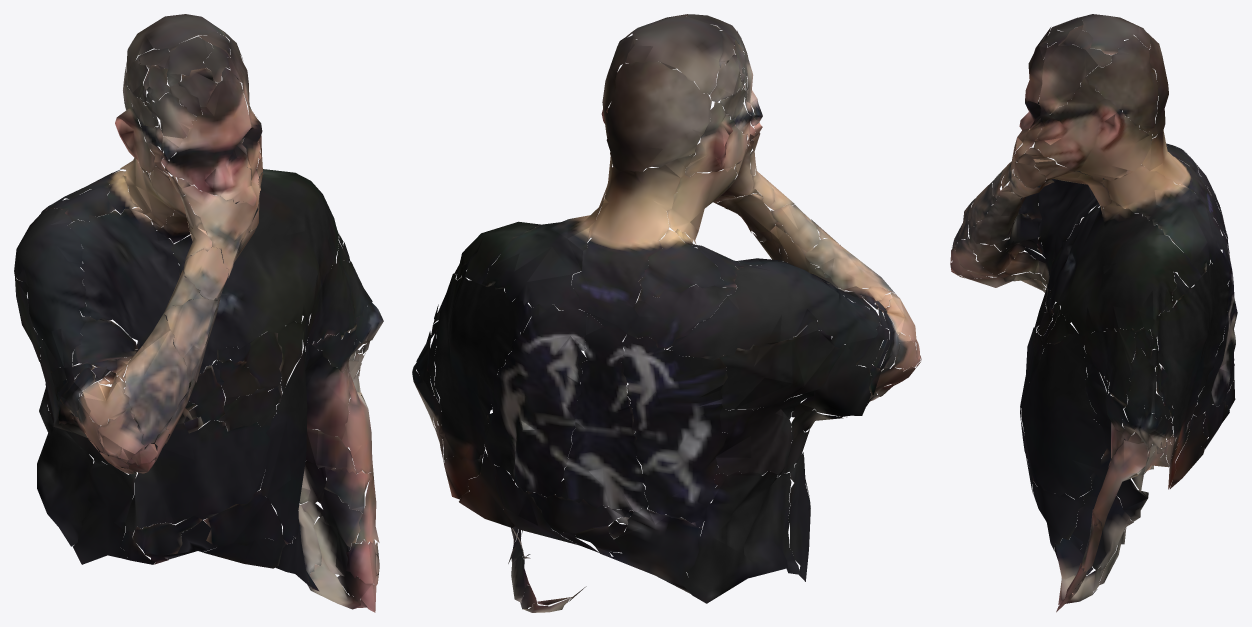
The picture shows the model from 3 angles, left to right: view 1: azimuth 30°, elevation 25°; view 2: azimuth 150°, elevation 25°; view 3: azimuth 270°, elevation 25°; orthographic projection. The views are drawn at different scales.
Parts seen in each view (by area): view 1: mesh_0; view 2: mesh_0; view 3: mesh_0.
Part boxes in pixels (x1,y1,x2,y2): mesh_0: (14, 14, 383, 612); mesh_0: (412, 14, 921, 612); mesh_0: (950, 14, 1237, 612).
Bounding box in the file's own units: 0.9033 × 1.38 × 0.6842.
1 material, 1 textured.
